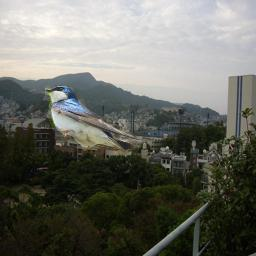Swallow: (45, 85, 143, 158)
